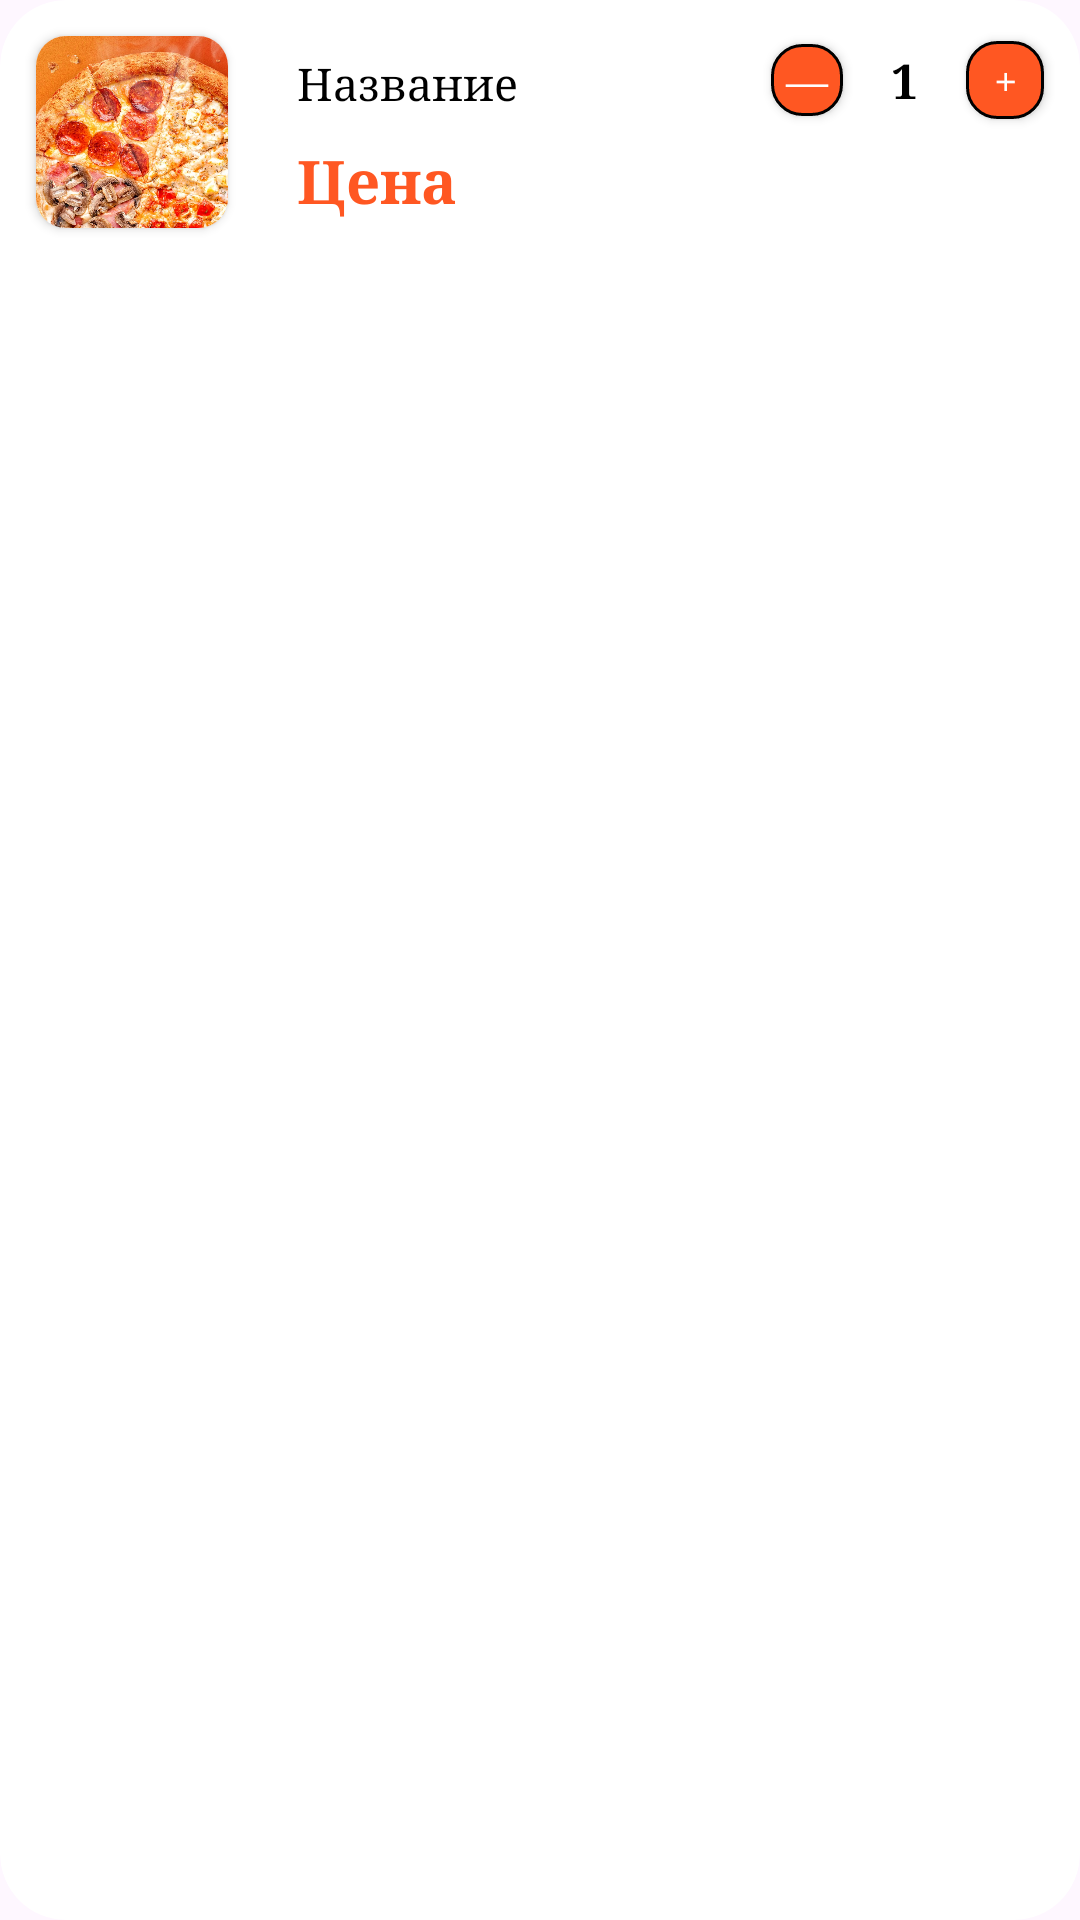

Icon bounding boxes for this 1080px×1920px phone screenshot, format [left=x1, top=y1, right=x2, bottom=y2]:
for pizzabutton: [left=36, top=36, right=228, bottom=228]
